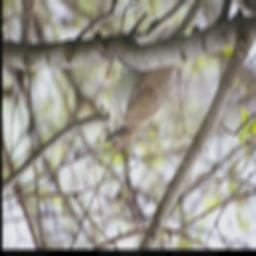Cuckoo: (103, 0, 214, 143)
